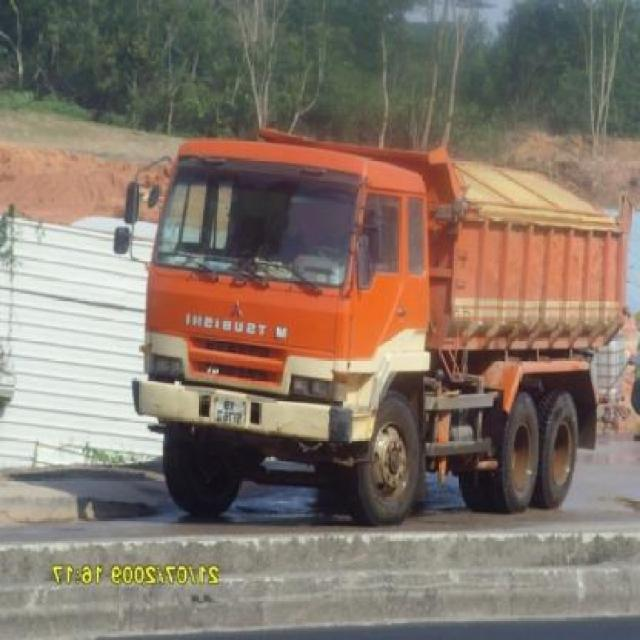truck: (126, 127, 634, 527)
